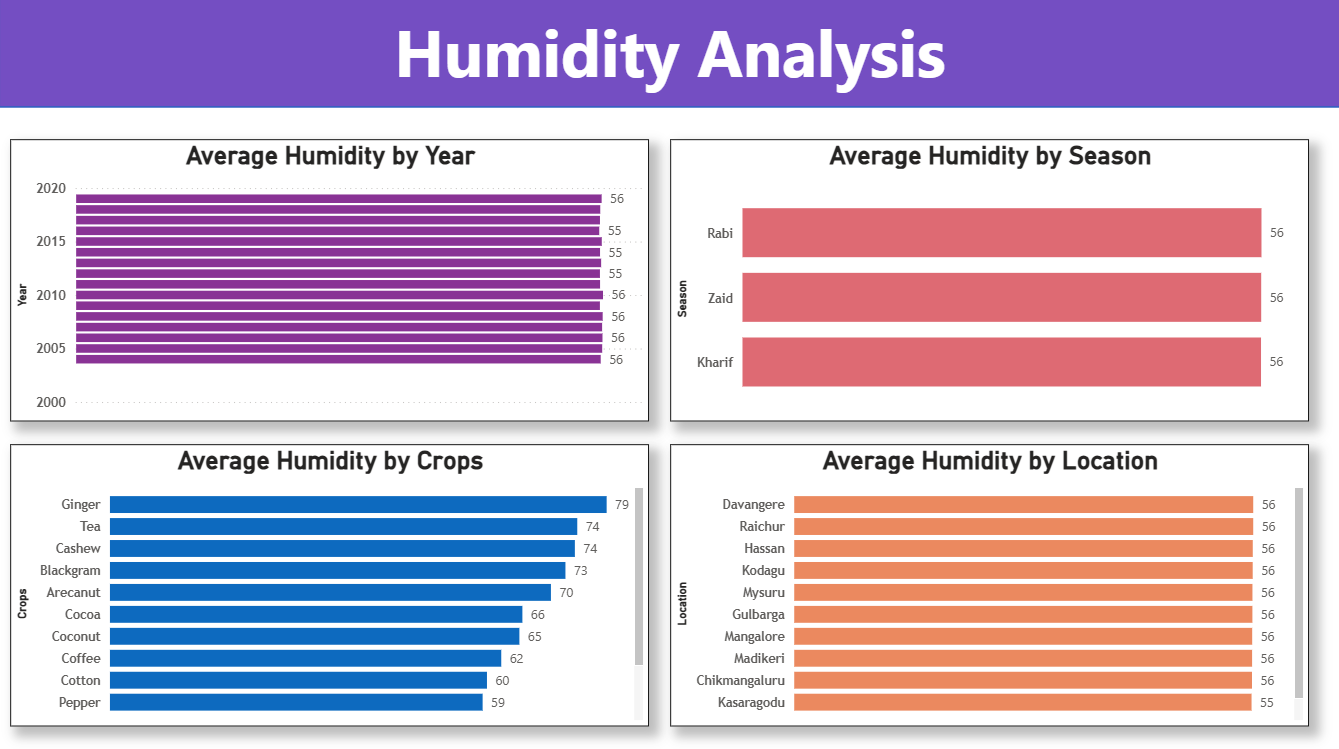

The dashboard page shown, as its layout file describes it:
{"tool":"powerbi","page":{"name":"Humidity Analysis","canvas":[1280,720],"ordinal":2},"visuals":[{"type":"shape","box":[9.6,0,1270.7,108.4],"z":0},{"type":"barChart","fields":{"Y":["Avg(AGRICULTURE.HUMIDITY)"],"Category":["AGRICULTURE.YEAR"]},"box":[20.6,138.6,605.1,267.6],"z":1000},{"type":"barChart","fields":{"Category":["AGRICULTURE.SEASON"],"Y":["Avg(AGRICULTURE.HUMIDITY)"]},"box":[644.9,138.6,605.1,267.6],"z":2000},{"type":"barChart","fields":{"Category":["AGRICULTURE.CROPS"],"Y":["Avg(AGRICULTURE.TEMPERATURE)"]},"box":[20.6,426.8,605.1,267.6],"z":3000},{"type":"barChart","fields":{"Category":["AGRICULTURE.LOCATION"],"Y":["Avg(AGRICULTURE.HUMIDITY)"]},"box":[644.9,426.8,605.1,267.6],"z":4000}]}

Visuals, with their boxes in screenshot pixels (x1, y1, x2, y2), scaled from the page's 1280x720 canvas onto the 1339x749 screenshot:
shape: <box>10,0,1338,113</box>
barChart - Avg(AGRICULTURE.HUMIDITY) x AGRICULTURE.YEAR: <box>22,144,655,423</box>
barChart - AGRICULTURE.SEASON x Avg(AGRICULTURE.HUMIDITY): <box>675,144,1308,423</box>
barChart - AGRICULTURE.CROPS x Avg(AGRICULTURE.TEMPERATURE): <box>22,444,655,722</box>
barChart - AGRICULTURE.LOCATION x Avg(AGRICULTURE.HUMIDITY): <box>675,444,1308,722</box>
